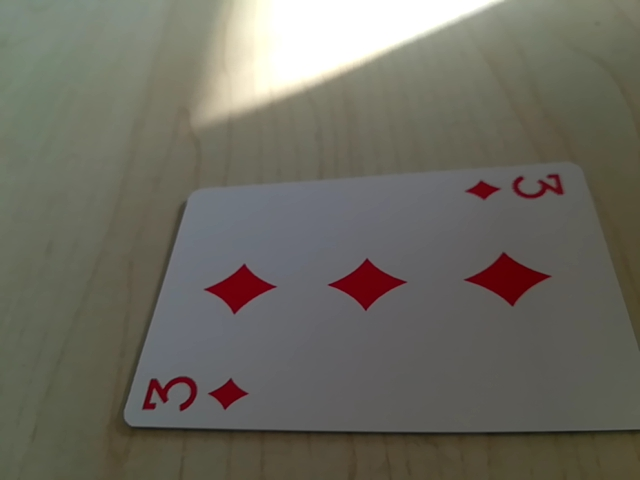fk 3: (135, 363, 250, 422), (464, 167, 572, 209)
